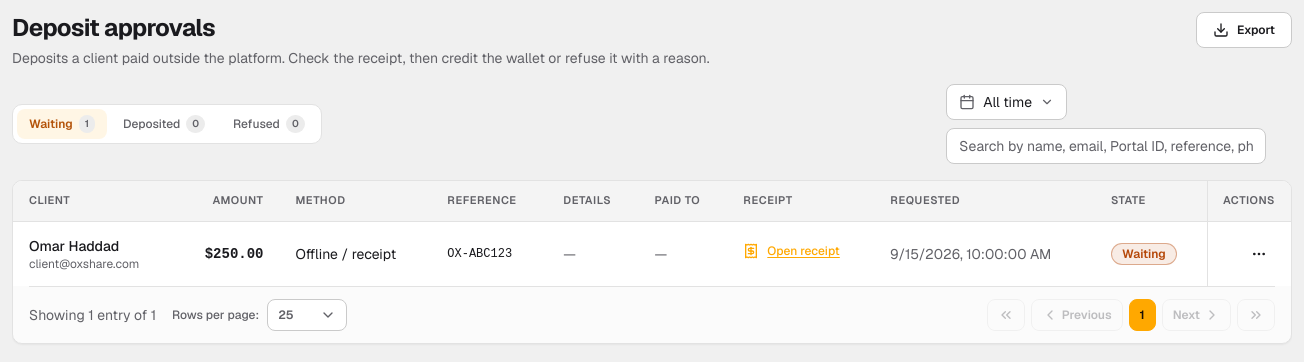
Test: the offline deposit queue › separates approving from refusing
The image size is (1304, 362).
expect the text "Omar Haddad" is shown: met, box 29,236 -> 119,256
What coordinates should you click on to do the following:
click the button named "deposit actions"
I would click on:
 (1259, 254)
Its box is 1243,238 -> 1275,270.
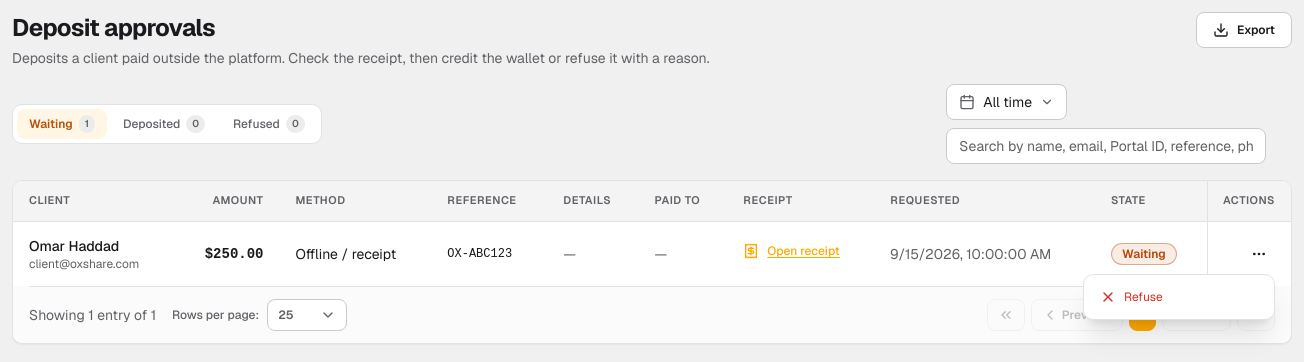
expect the menu item "Refuse" is shown: met, box 1100,289 -> 1163,305
